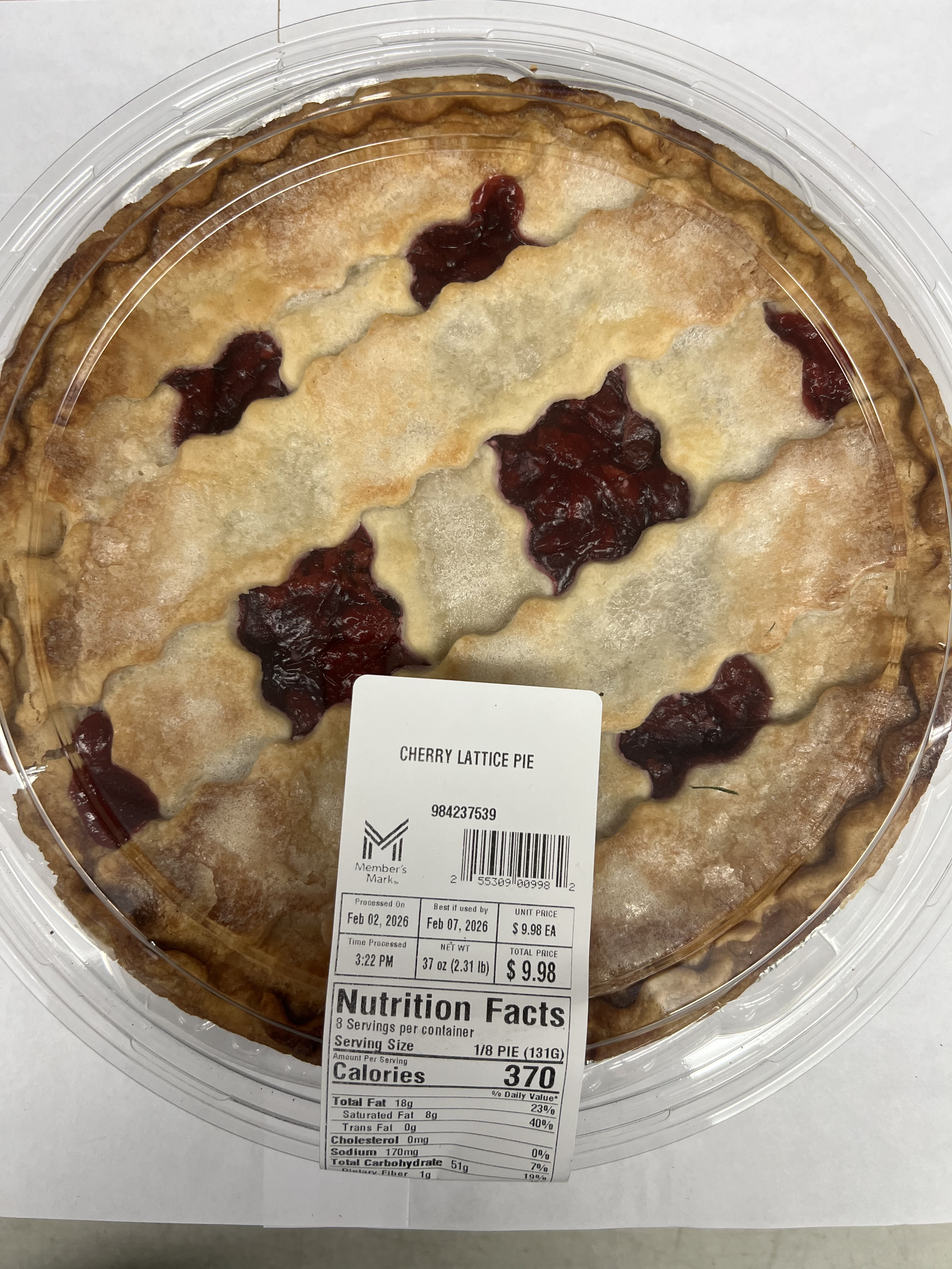bakery: (3, 36, 952, 1179)
